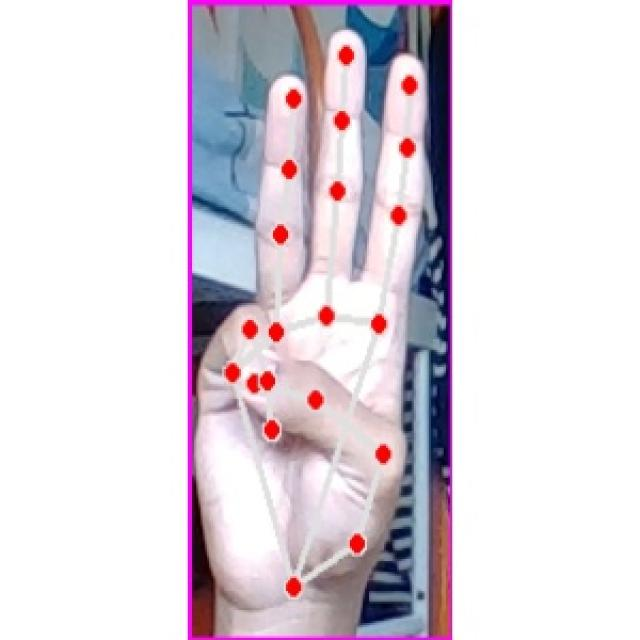W: (200, 19, 437, 604)
